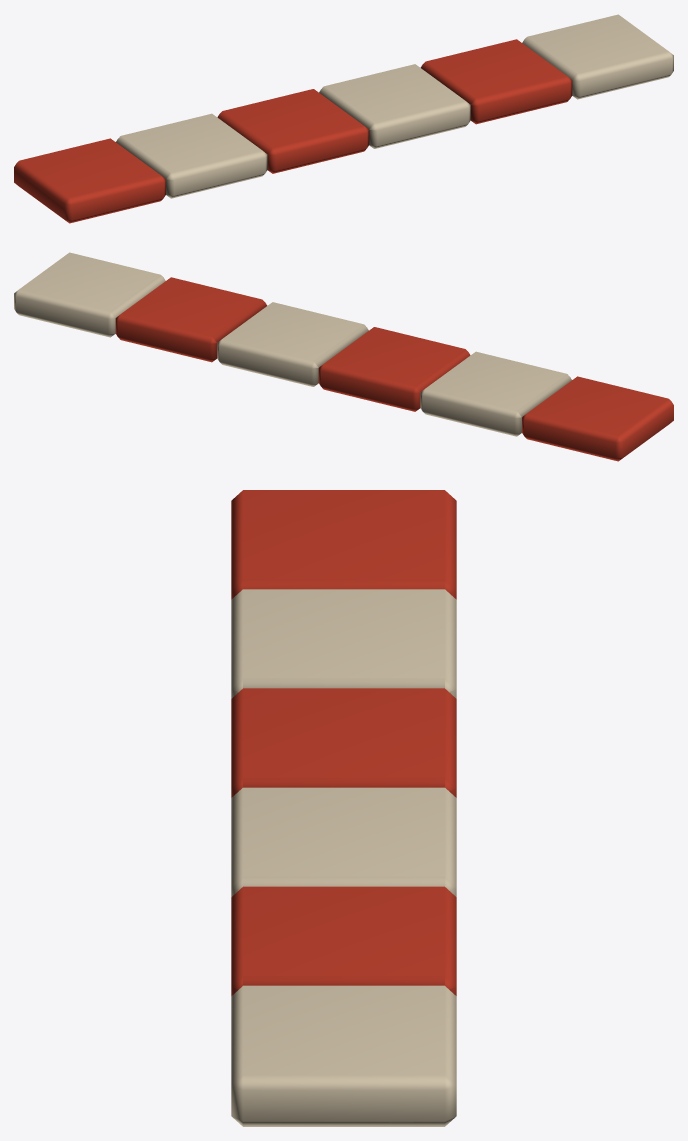
The model's file is kerb.glb.
3 renders of one model, top to bottom at view 1: azimuth 30°, elevation 25°; view 2: azimuth 150°, elevation 25°; view 3: azimuth 270°, elevation 25°, orthographic. The views are drawn at different scales.
Parts seen in each view (by area): view 1: Kerb segment; view 2: Kerb segment; view 3: Kerb segment.
Part boxes in pixels (x1,y1,x2,y2): Kerb segment: (14, 14, 673, 223); Kerb segment: (14, 252, 673, 461); Kerb segment: (231, 490, 456, 1126).
Bounding box in the file's own units: 3 × 0.122 × 0.48.
